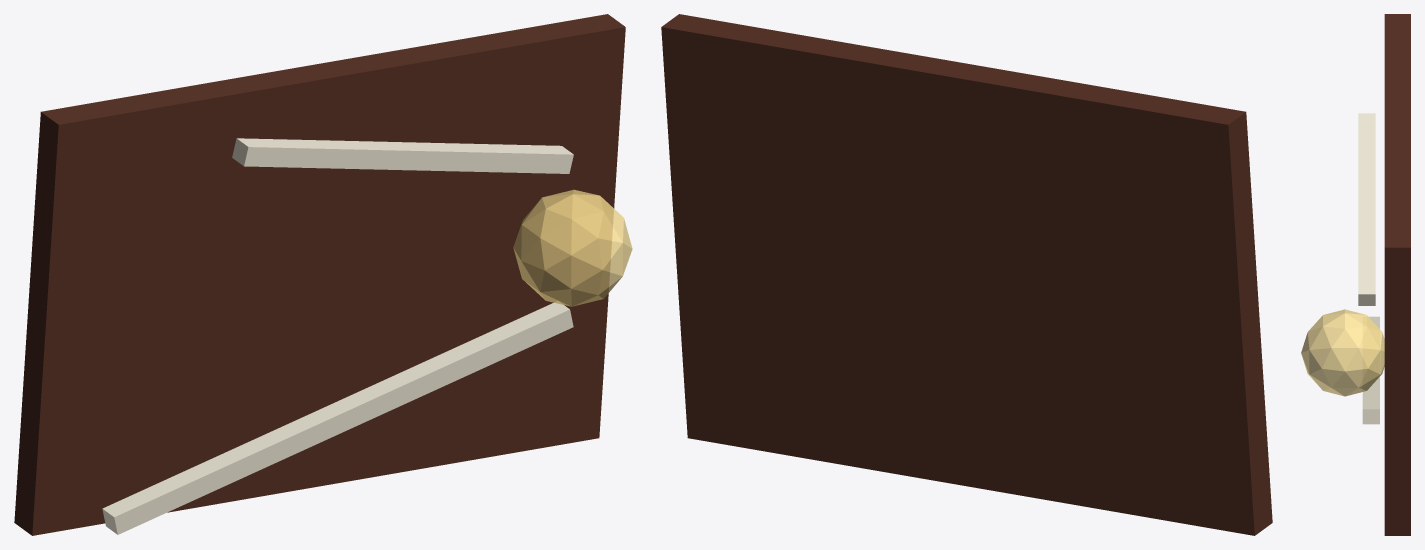
The model's file is 02_world_prop_polish.glb.
The picture shows the model from 3 angles, left to right: view 1: azimuth 30°, elevation 25°; view 2: azimuth 150°, elevation 25°; view 3: azimuth 270°, elevation 25°; orthographic projection. The views are drawn at different scales.
Visible parts, largest first — view 1: object_overlay_plate, edge_wear_a, glow_socket, edge_wear_b; view 2: object_overlay_plate; view 3: object_overlay_plate, glow_socket, edge_wear_b, edge_wear_a.
Part boxes in pixels (box(x1,y1,x2,y2)): object_overlay_plate: box(14, 14, 625, 535); edge_wear_a: box(102, 302, 573, 534); glow_socket: box(513, 189, 632, 306); edge_wear_b: box(232, 138, 573, 173); object_overlay_plate: box(661, 14, 1272, 535); object_overlay_plate: box(1384, 14, 1410, 535); glow_socket: box(1301, 309, 1384, 396); edge_wear_b: box(1358, 113, 1375, 305); edge_wear_a: box(1362, 316, 1379, 424).
Bounding box in the file's own units: 1.15 × 0.8233 × 0.25.
